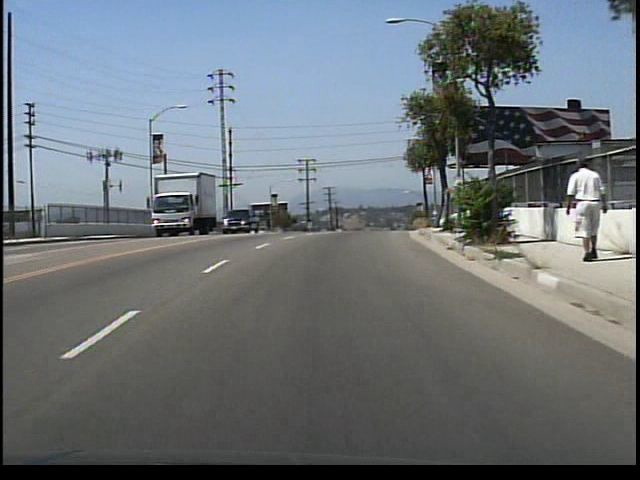person: (561, 154, 604, 264)
